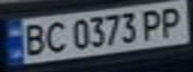0: (69, 16, 90, 51)
3: (118, 9, 142, 44), (87, 14, 109, 48)
7: (103, 11, 124, 46)
B: (18, 21, 51, 57)
C: (39, 19, 69, 54)
P: (157, 4, 190, 38), (136, 7, 169, 40)
